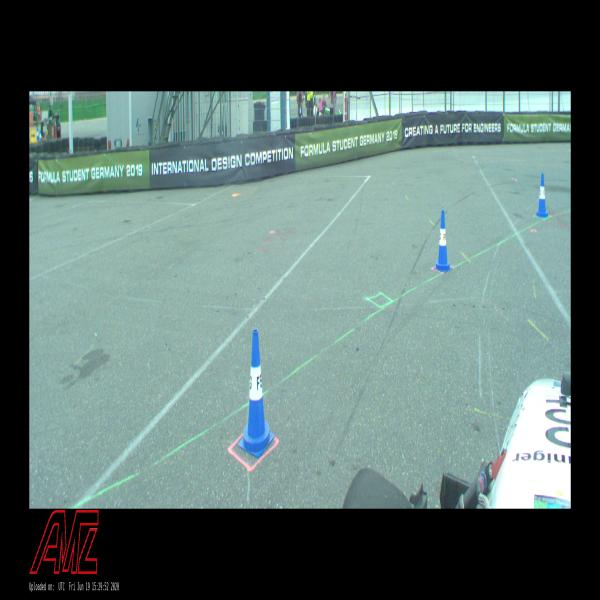blue_cone: (239, 330, 274, 457), (434, 210, 452, 273), (536, 173, 550, 220)
